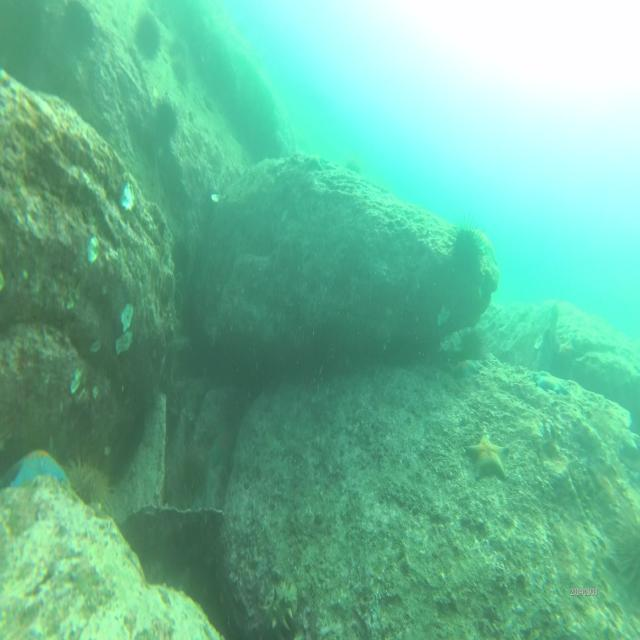echinus: (68, 462, 115, 509), (449, 226, 483, 286), (180, 441, 209, 496), (64, 2, 96, 50), (134, 12, 162, 59), (155, 96, 178, 140)
starfish: (0, 446, 70, 497), (467, 426, 508, 481), (534, 365, 570, 395), (449, 356, 481, 382)
